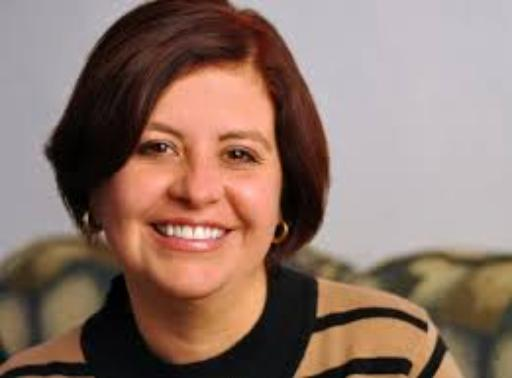left_eye: (219, 148, 263, 167)
left_lip_corner: (225, 226, 244, 238)
right_eye: (140, 141, 183, 159)
right_lip_corner: (141, 218, 162, 234)
